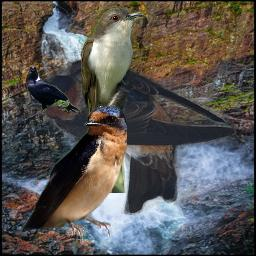Crow: (25, 65, 82, 116)
Cuckoo: (81, 1, 145, 193)
Swallow: (24, 56, 237, 215), (21, 105, 127, 243)
